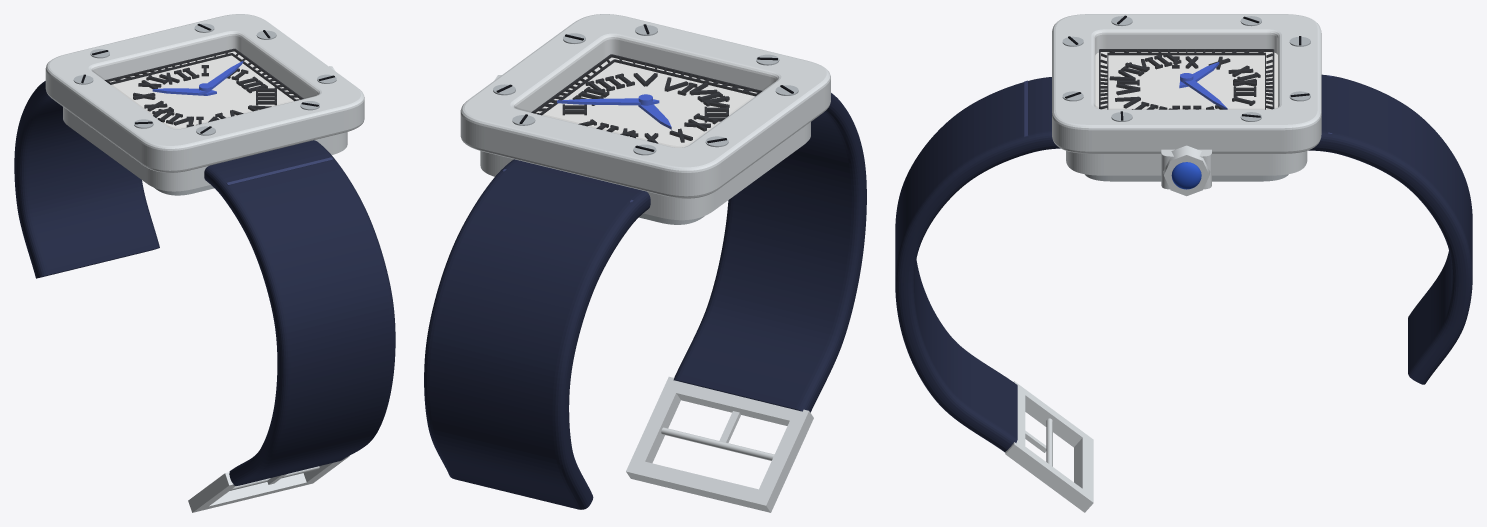
The model's file is cartier-santos.glb.
The picture shows the model from 3 angles, left to right: view 1: azimuth 30°, elevation 25°; view 2: azimuth 150°, elevation 25°; view 3: azimuth 270°, elevation 25°; orthographic projection. The views are drawn at different scales.
Visible parts, largest first — view 1: strapLower, bezel, strapUpper, dialPlate, midCase, buckleEnd_1, buckleSide_0; view 2: strapUpper, strapLower, bezel, dialPlate, midCase, buckleEnd_1, buckleEnd_0, buckleSide_0, buckleSide_1, bucklePin, minuteHand, railOuter_h1 (+1 smaller); view 3: bezel, strapLower, strapUpper, dialPlate, midCase, buckleSide_1, buckleSide_0, crownBody, buckleEnd_1, caseBack, crownStone.
Part boxes in pixels (x1=…): strapLower: x1=204, y1=140, x2=395, y2=485; bezel: x1=45, y1=14, x2=364, y2=172; strapUpper: x1=14, y1=81, x2=159, y2=278; dialPlate: x1=109, y1=51, x2=299, y2=128; midCase: x1=63, y1=107, x2=347, y2=191; buckleEnd_1: x1=192, y1=473, x2=311, y2=511; buckleSide_0: x1=188, y1=472, x2=235, y2=512; strapUpper: x1=424, y1=159, x2=650, y2=509; strapLower: x1=673, y1=93, x2=866, y2=412; bezel: x1=460, y1=14, x2=830, y2=198; dialPlate: x1=536, y1=57, x2=756, y2=147; midCase: x1=480, y1=122, x2=810, y2=220; buckleEnd_1: x1=627, y1=459, x2=769, y2=509; buckleEnd_0: x1=663, y1=377, x2=813, y2=429; buckleSide_0: x1=753, y1=409, x2=813, y2=512; buckleSide_1: x1=626, y1=377, x2=680, y2=481; bucklePin: x1=661, y1=427, x2=774, y2=460; minuteHand: x1=557, y1=98, x2=659, y2=105; railOuter_h1: x1=611, y1=54, x2=762, y2=92; bezel: x1=1052, y1=14, x2=1321, y2=153; strapLower: x1=895, y1=77, x2=1060, y2=452; strapUpper: x1=1308, y1=74, x2=1472, y2=384; dialPlate: x1=1095, y1=52, x2=1277, y2=109; midCase: x1=1066, y1=151, x2=1307, y2=175; buckleSide_1: x1=1005, y1=441, x2=1093, y2=512; buckleSide_0: x1=1013, y1=381, x2=1093, y2=447; crownBody: x1=1163, y1=145, x2=1210, y2=196; buckleEnd_1: x1=1074, y1=437, x2=1093, y2=511; caseBack: x1=1085, y1=174, x2=1288, y2=181; crownStone: x1=1171, y1=162, x2=1201, y2=189.
Size of the model in its own units: 0.0381 by 0.0579 by 0.0732.
